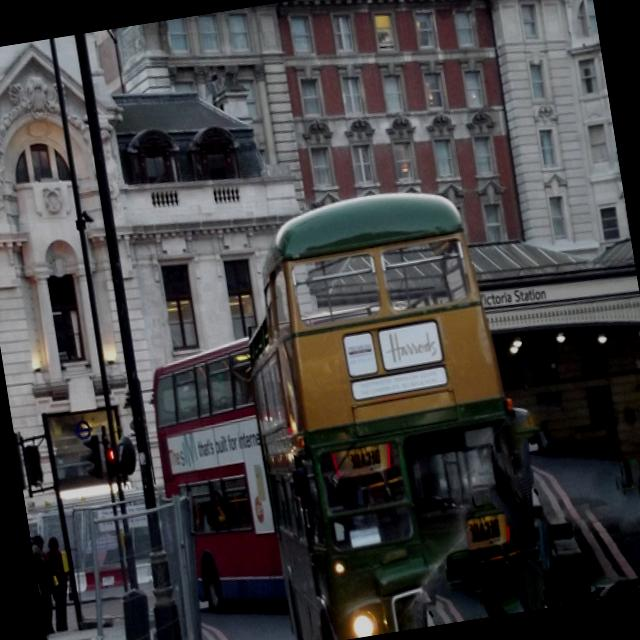Vehicle: (217, 181, 533, 640), (142, 336, 292, 618)
